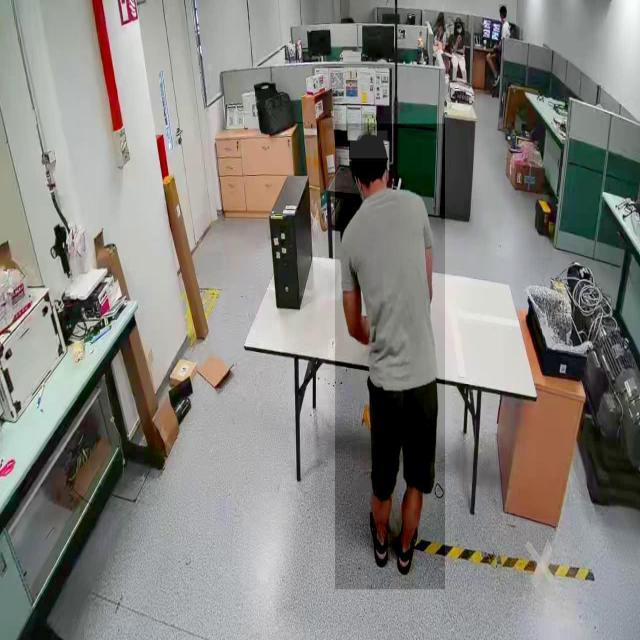face_mask: (454, 22, 464, 36)
head_nohelmet: (350, 131, 388, 159), (499, 4, 507, 14), (454, 15, 462, 23), (437, 10, 444, 18)
person: (335, 124, 445, 590), (450, 11, 471, 86)
